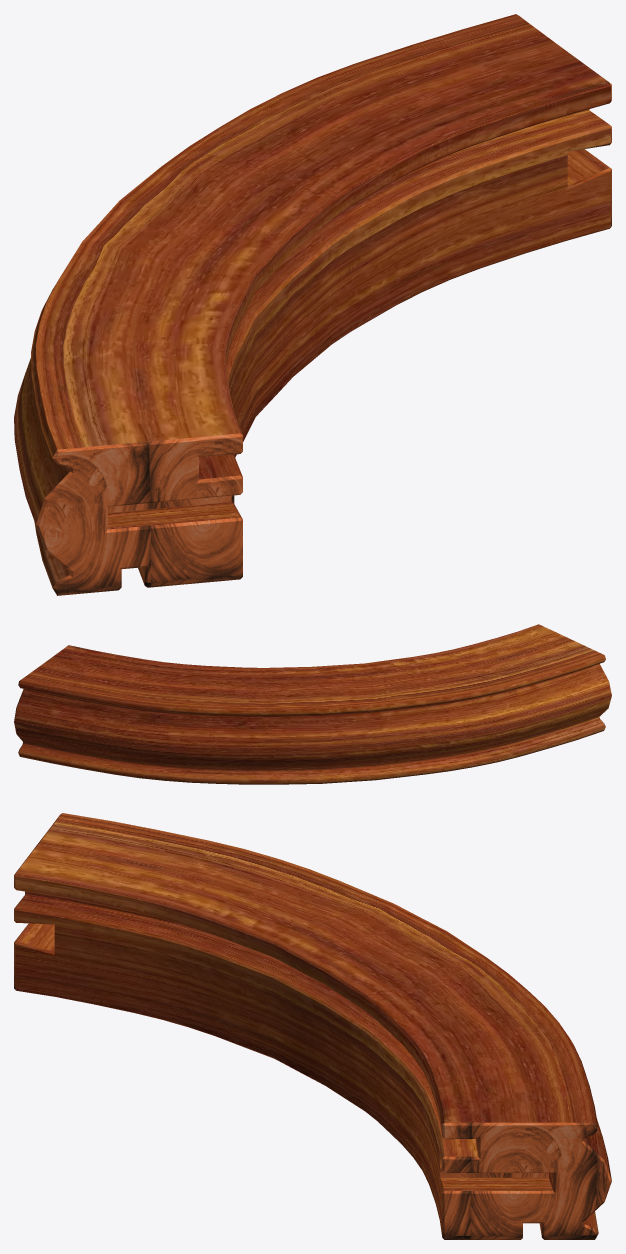
Rendered from YuanDeng_J_D_biankuang_008.FBX.
3 renders of one model, top to bottom at view 1: azimuth 30°, elevation 25°; view 2: azimuth 150°, elevation 25°; view 3: azimuth 270°, elevation 25°, orthographic. The views are drawn at different scales.
Parts seen in each view (by area): view 1: YuanDeng_J_D_biankuang_008; view 2: YuanDeng_J_D_biankuang_008; view 3: YuanDeng_J_D_biankuang_008.
Boxes of the visible parts, <box> form: YuanDeng_J_D_biankuang_008: <box>14,14,611,595</box>; YuanDeng_J_D_biankuang_008: <box>14,624,611,784</box>; YuanDeng_J_D_biankuang_008: <box>14,813,611,1239</box>.
Bounding box in the file's own units: 20.33 × 3.58 × 16.17.
2 materials, 2 textured.
